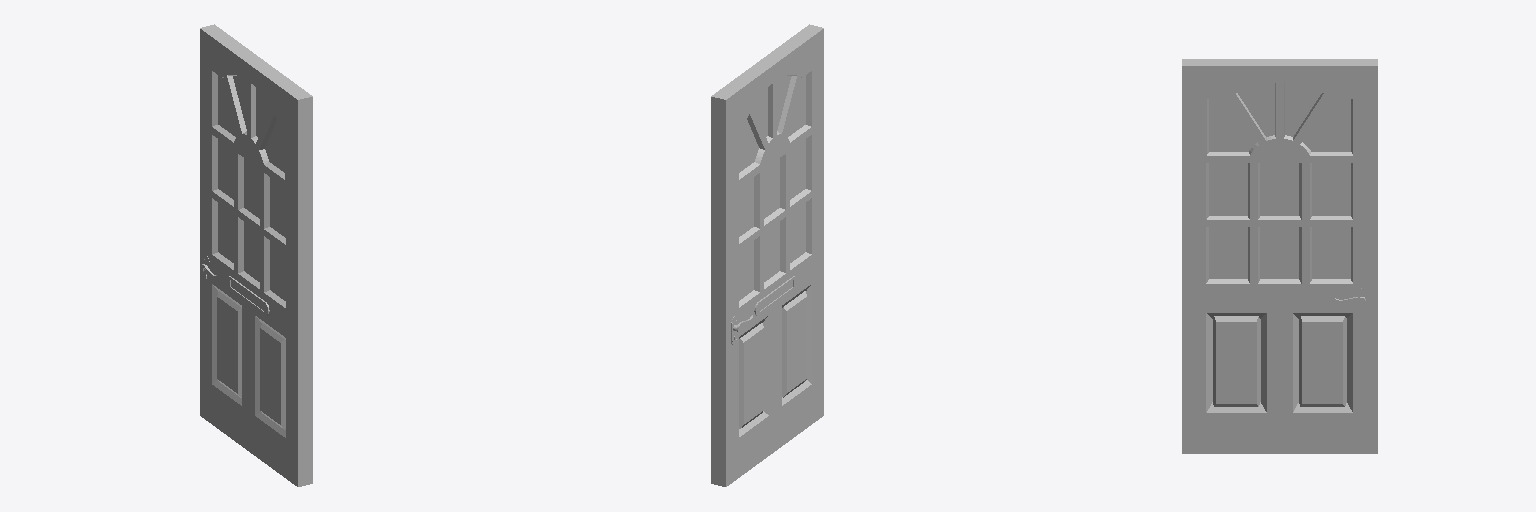
File: door2_000020.obj
3 renders of one model, left to right at view 1: azimuth 30°, elevation 25°; view 2: azimuth 150°, elevation 25°; view 3: azimuth 270°, elevation 25°, orthographic.
Parts seen in each view (by area): view 1: Door.000_Door.004; view 2: Door.000_Door.004; view 3: Door.000_Door.004.
Boxes of the visible parts, box(x1,y1,x2,y2) form: Door.000_Door.004: box(200, 24, 312, 486); Door.000_Door.004: box(711, 24, 823, 486); Door.000_Door.004: box(1182, 59, 1377, 453).
Bounding box in the file's own units: 0.1145 × 1.6 × 0.7394.